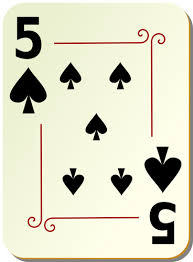five of spades: (4, 2, 190, 259)
